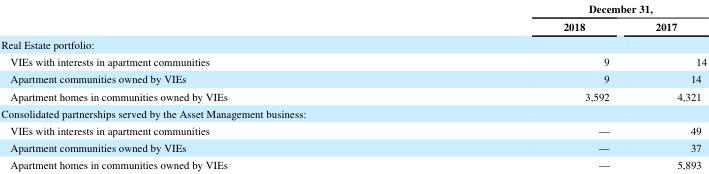table: (0, 0, 706, 171)
table column: (0, 0, 394, 171), (394, 0, 631, 171), (631, 0, 706, 171)
table column header: (0, 0, 706, 35)
table projected row header: (0, 35, 706, 52), (0, 104, 706, 121)
table row: (0, 17, 706, 35), (0, 86, 706, 104), (0, 0, 706, 17), (0, 35, 706, 52), (0, 52, 706, 69), (0, 69, 706, 86), (0, 104, 706, 121), (0, 121, 706, 138), (0, 138, 706, 155), (0, 155, 706, 171)
table spanning cell: (394, 0, 706, 17)
